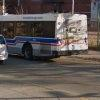Bus: (3, 10, 92, 61)
